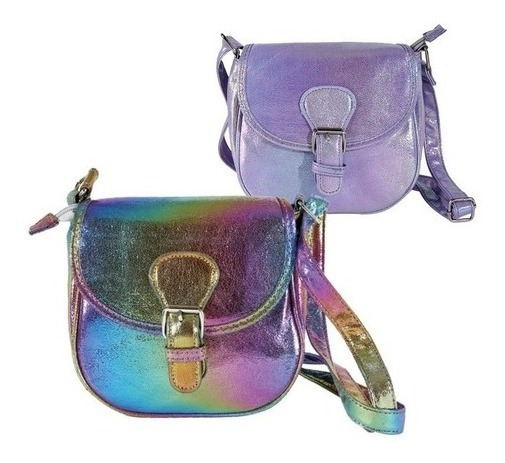cartera: (28, 166, 410, 438), (204, 23, 479, 224)
